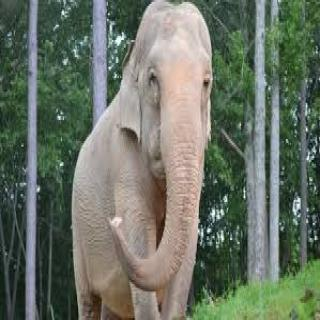Elephant: (66, 2, 220, 320)
